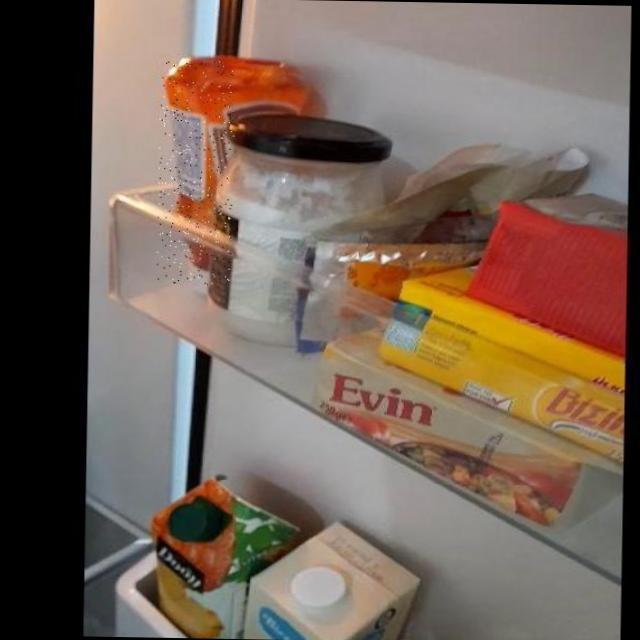sauce: (156, 60, 235, 286)
